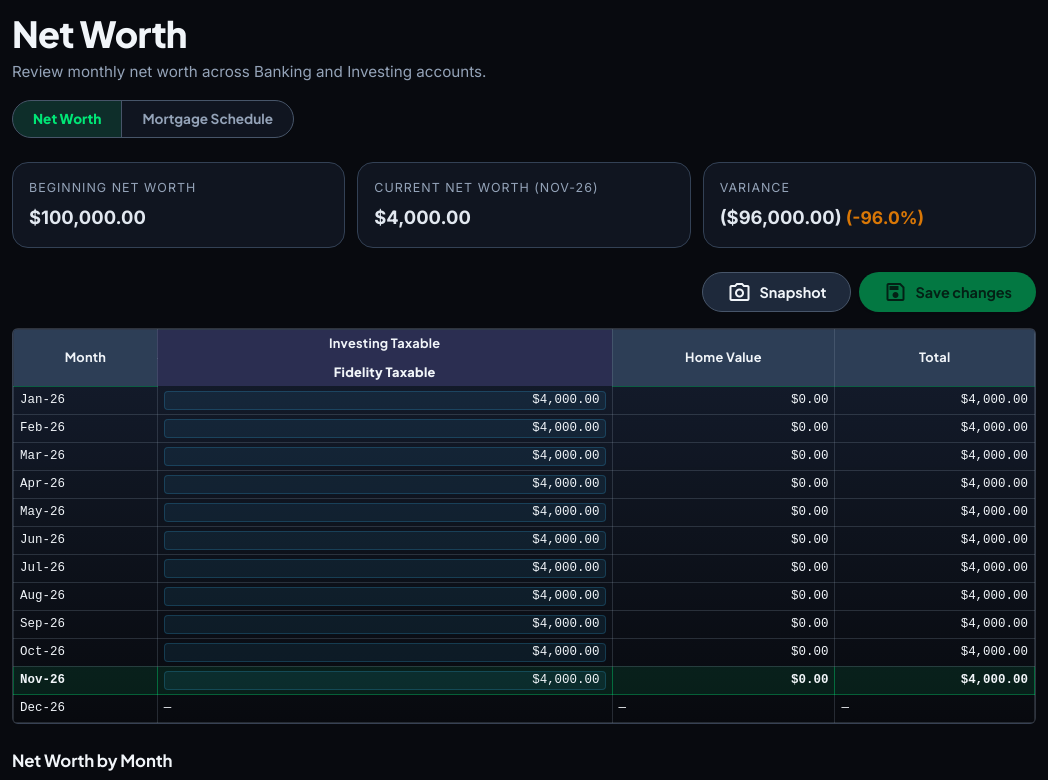
NetWorthPage › retains dirty table values when the batch save fails so it can be retried
Replace the text in the field named "Fidelity Taxable Jul-26 value" with "6000" at (385, 568), box x1=164 y1=559 x2=606 y2=578
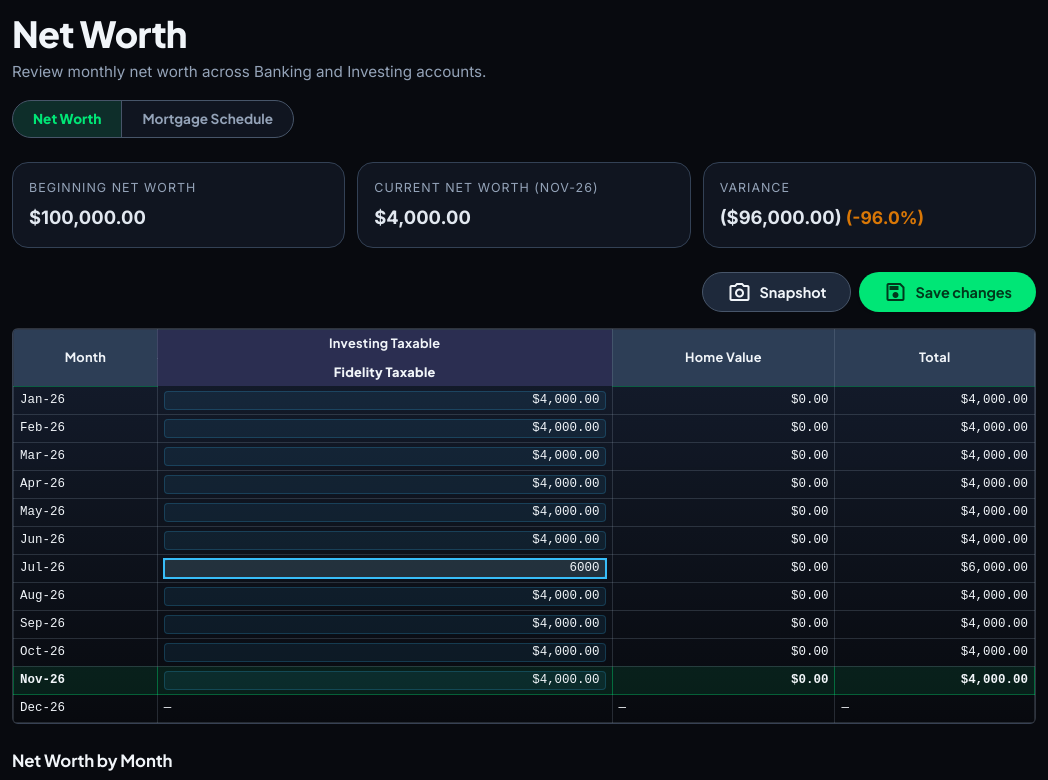
Click the button "Save changes".
click(948, 292)  # box x1=859 y1=272 x2=1036 y2=312
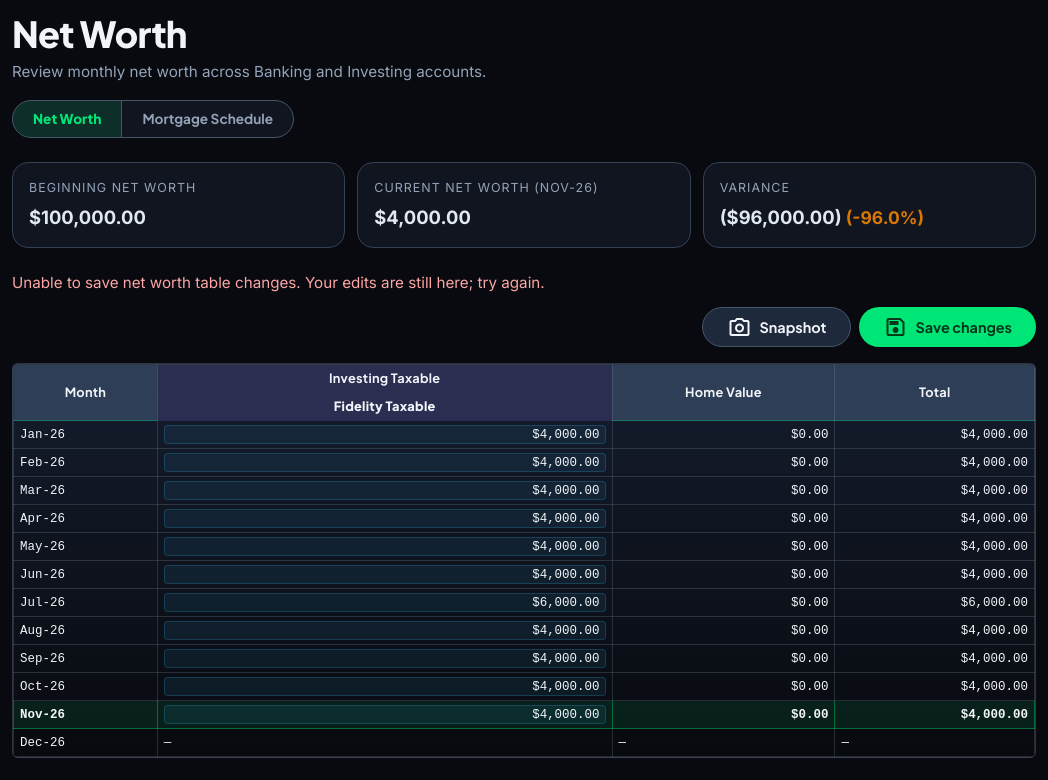
Check: the button "Save changes" is enabled
Check: the message shows "Your edits are still here", box x1=12 y1=273 x2=545 y2=292
Check: the field named "Fidelity Taxable Jul-26 value" holds "$6,000.00", box x1=164 y1=594 x2=606 y2=612
Click the button "Save changes".
click(948, 327)  # box x1=859 y1=307 x2=1036 y2=347
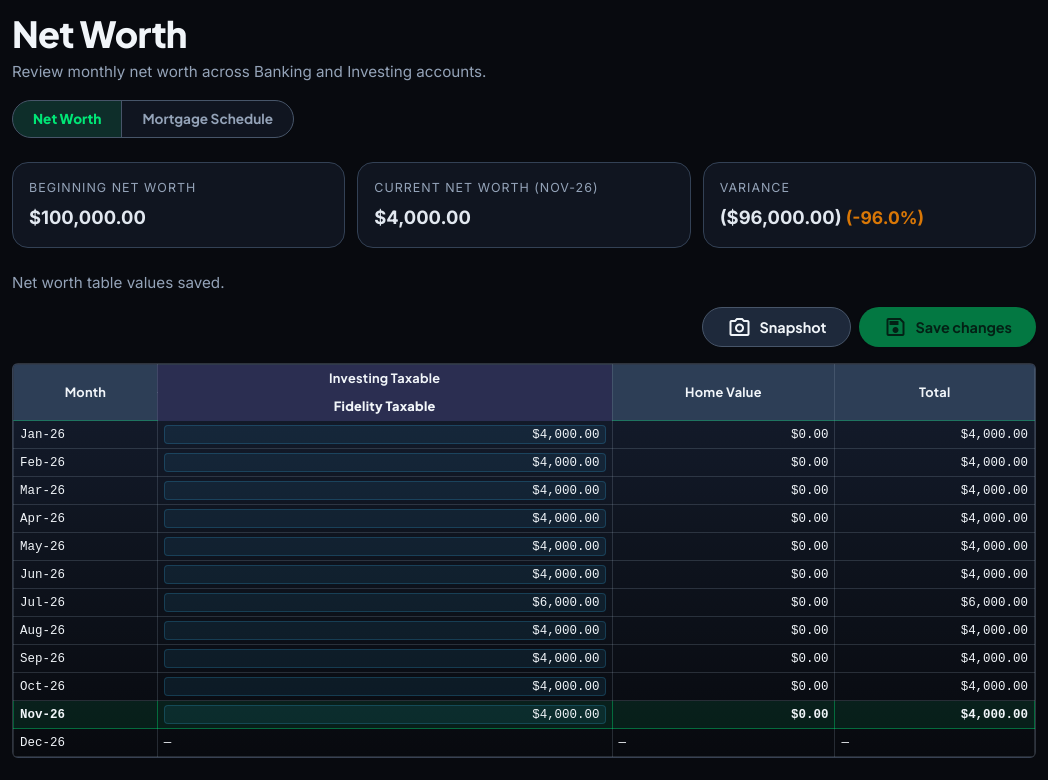
Check: the button "Save changes" is disabled, box x1=859 y1=307 x2=1036 y2=347
